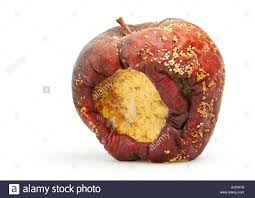damaged_apple: (78, 20, 221, 162)
